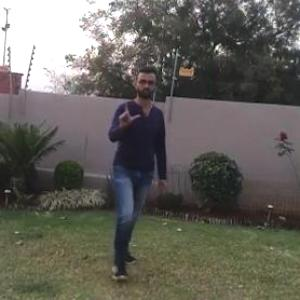land_hand: (112, 95, 144, 132)
